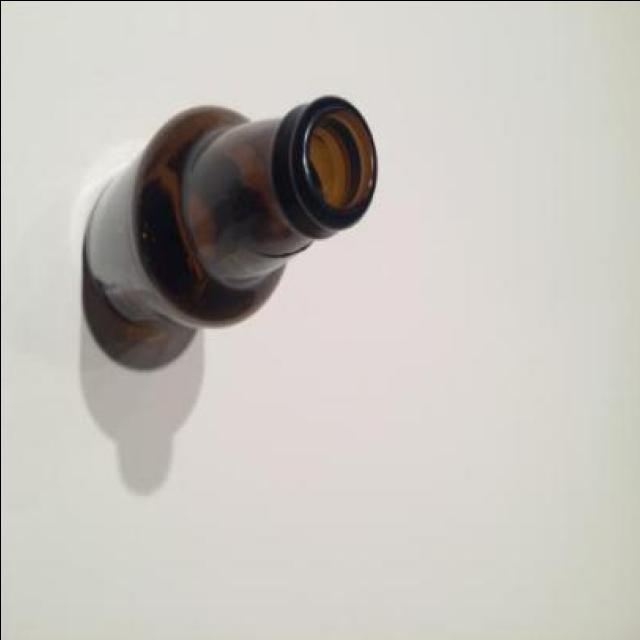kaca: (82, 98, 377, 332)
